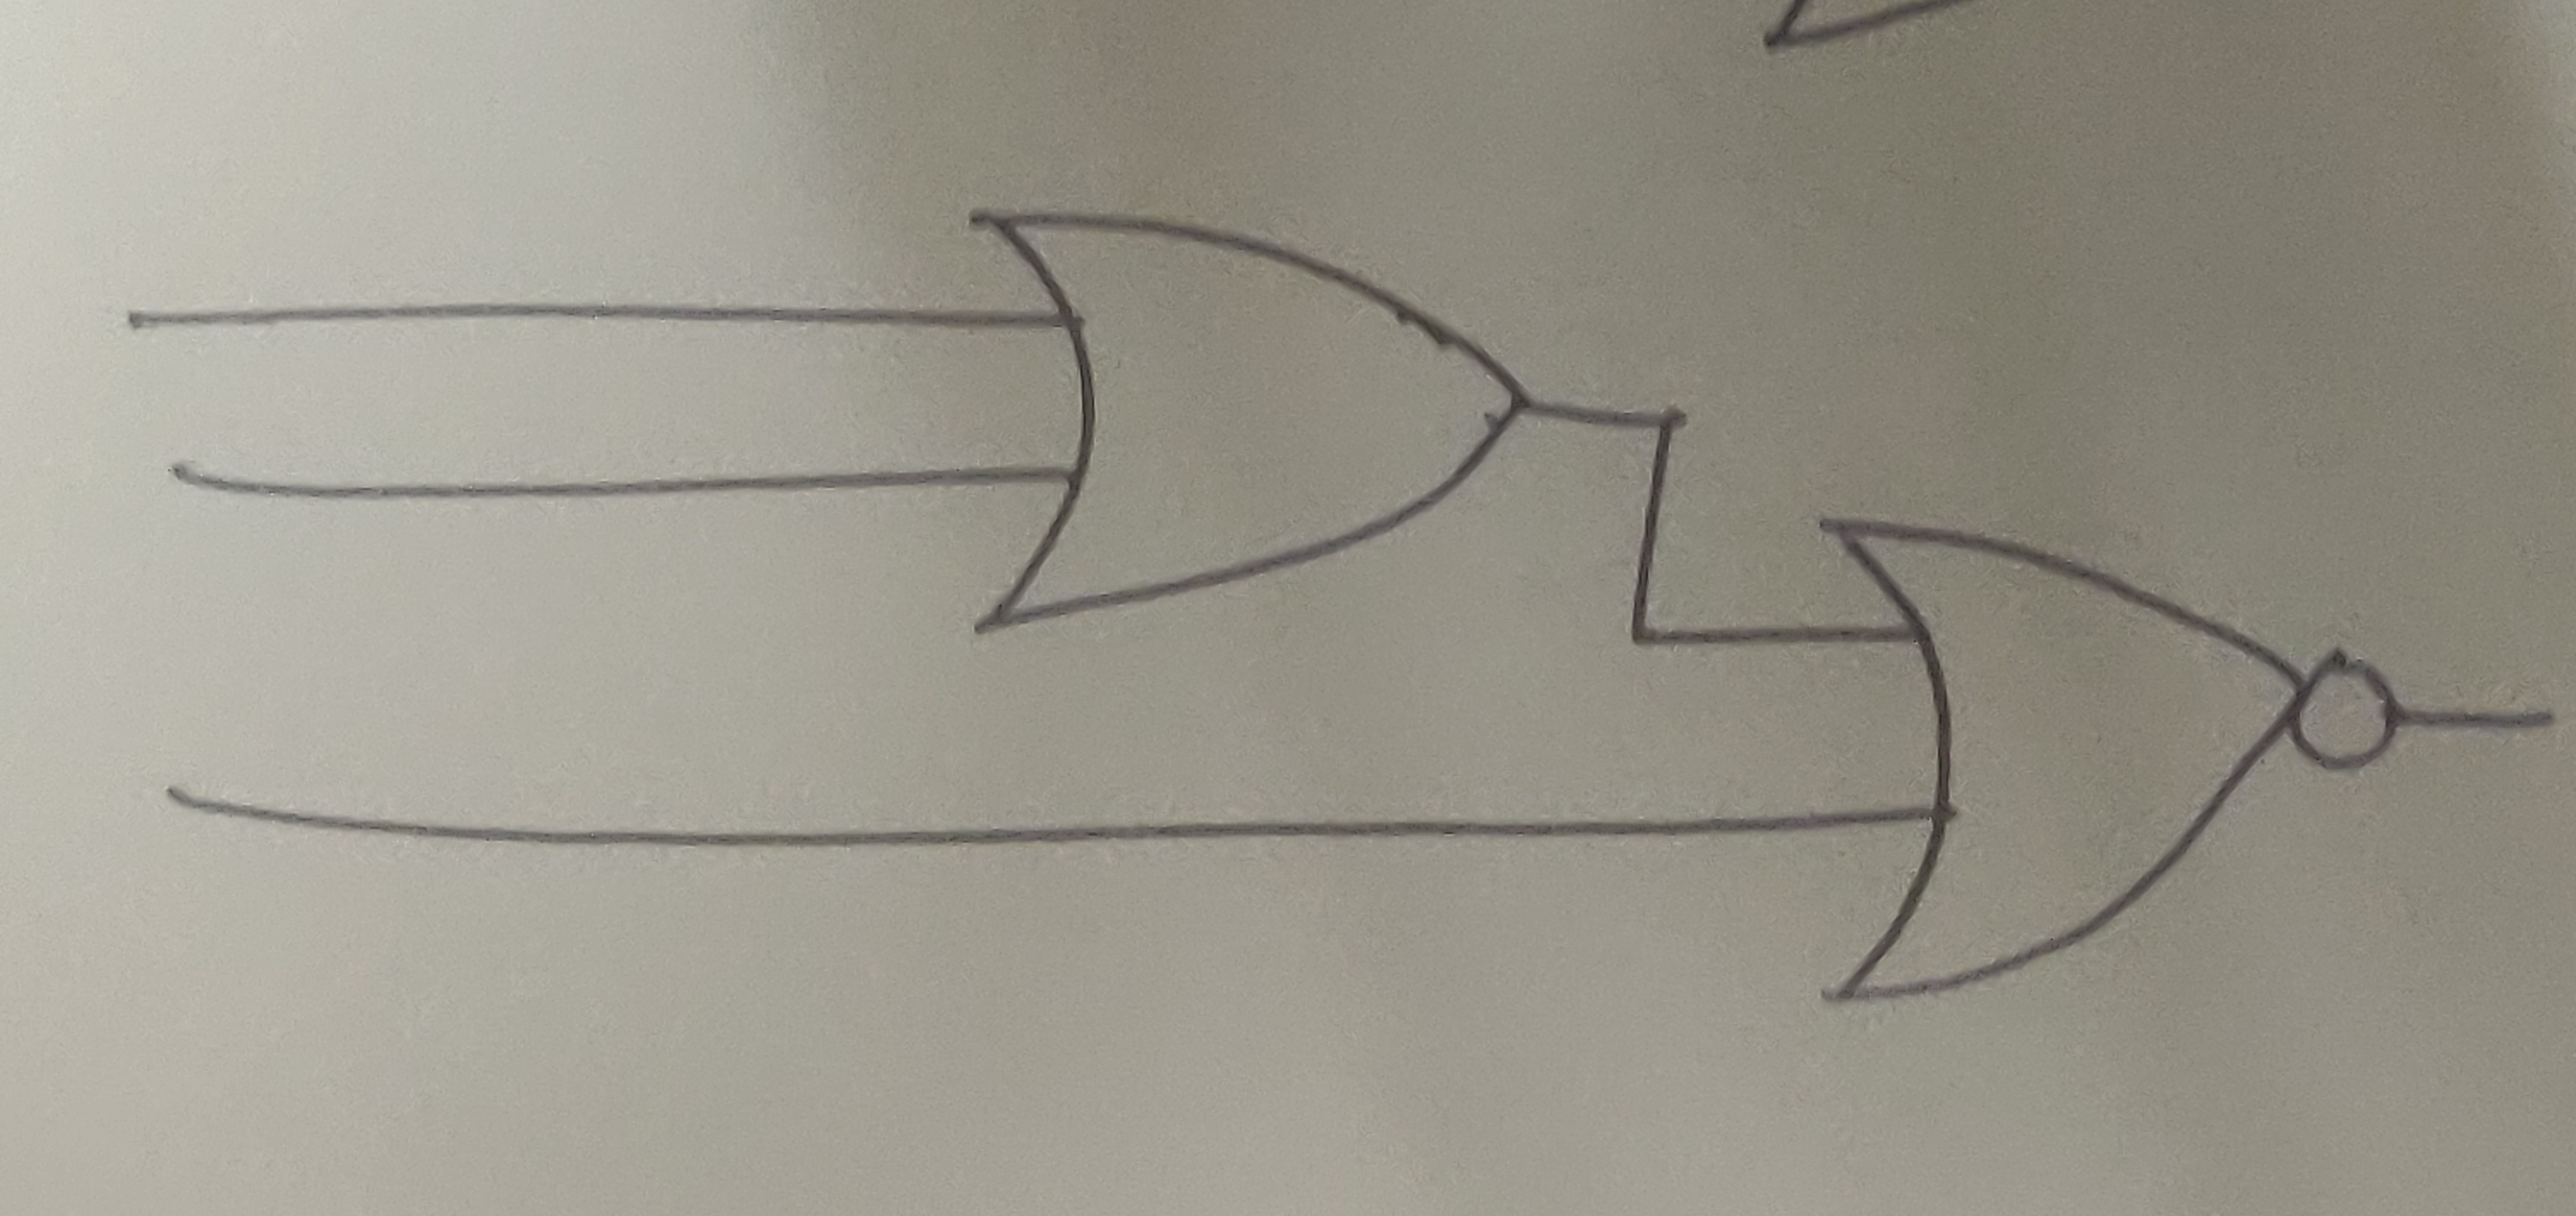not: (2290, 647, 2405, 779)
or: (950, 200, 1531, 641), (1810, 513, 2307, 1016)
